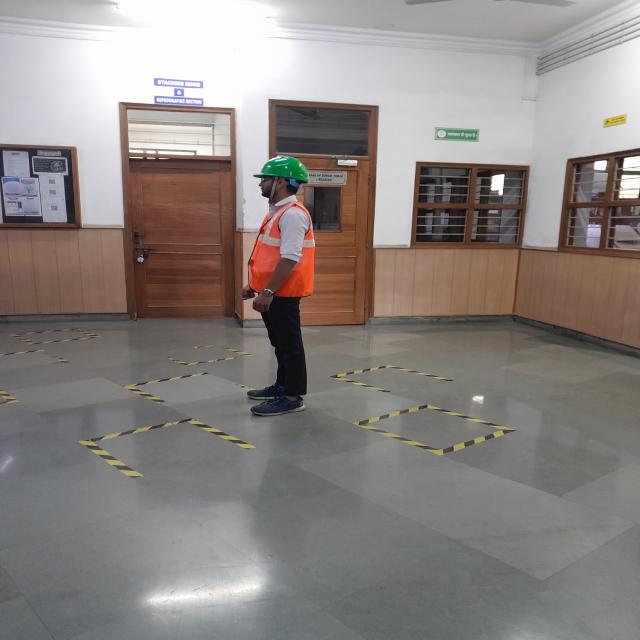safe: (248, 156, 315, 416)
